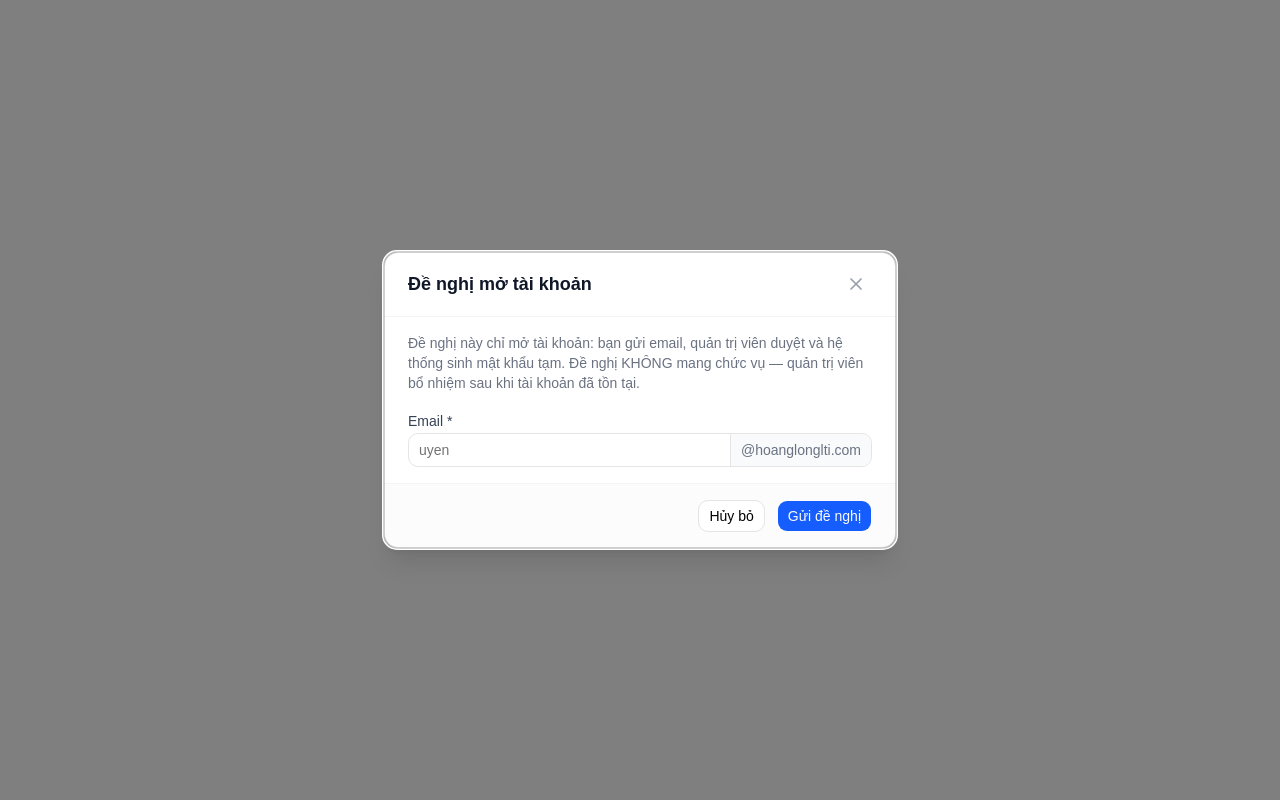
it: AddEmployeeModal › shows the server’s refusal rather than guessing at one
The image size is (1280, 800).
Type "taken" into the field labelled "Email *" at [569, 450], box [409,434,730,466]
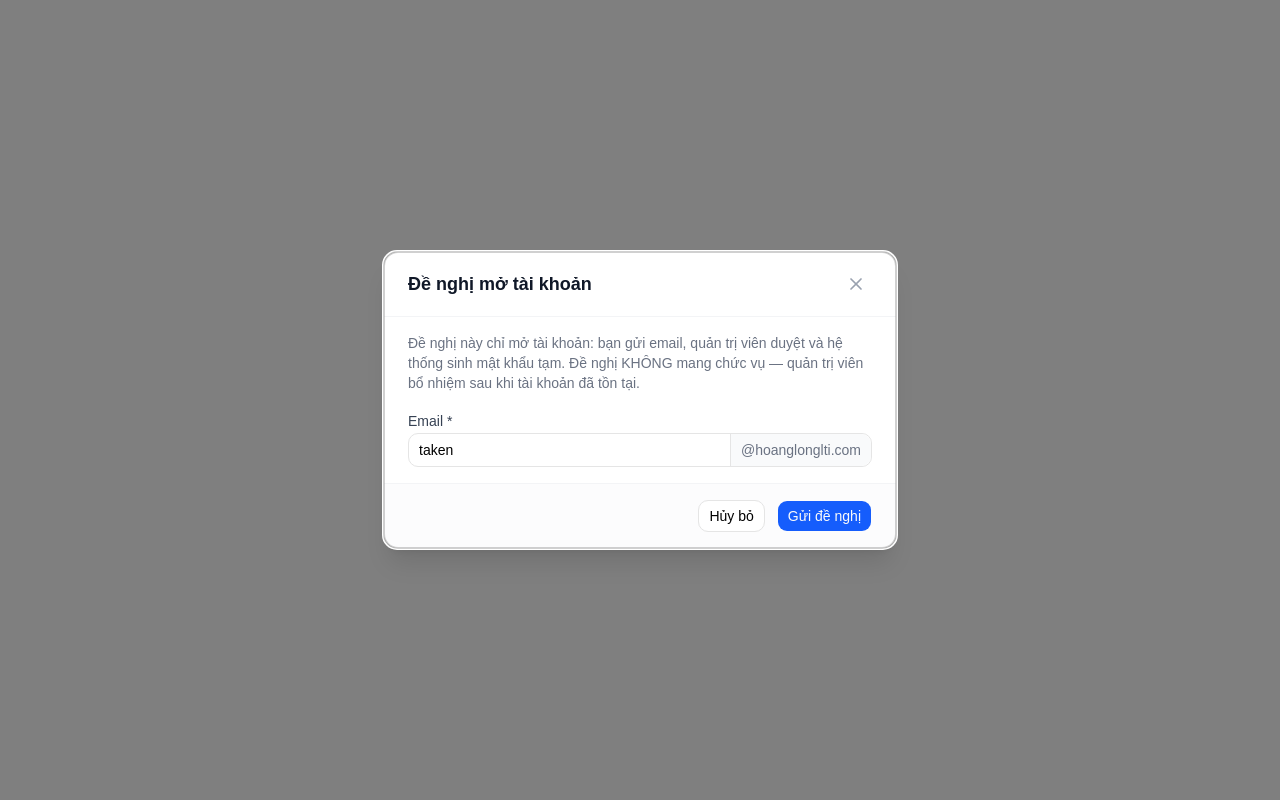
Click the button "Gửi đề nghị" at [824, 516], box [777,500,872,532]
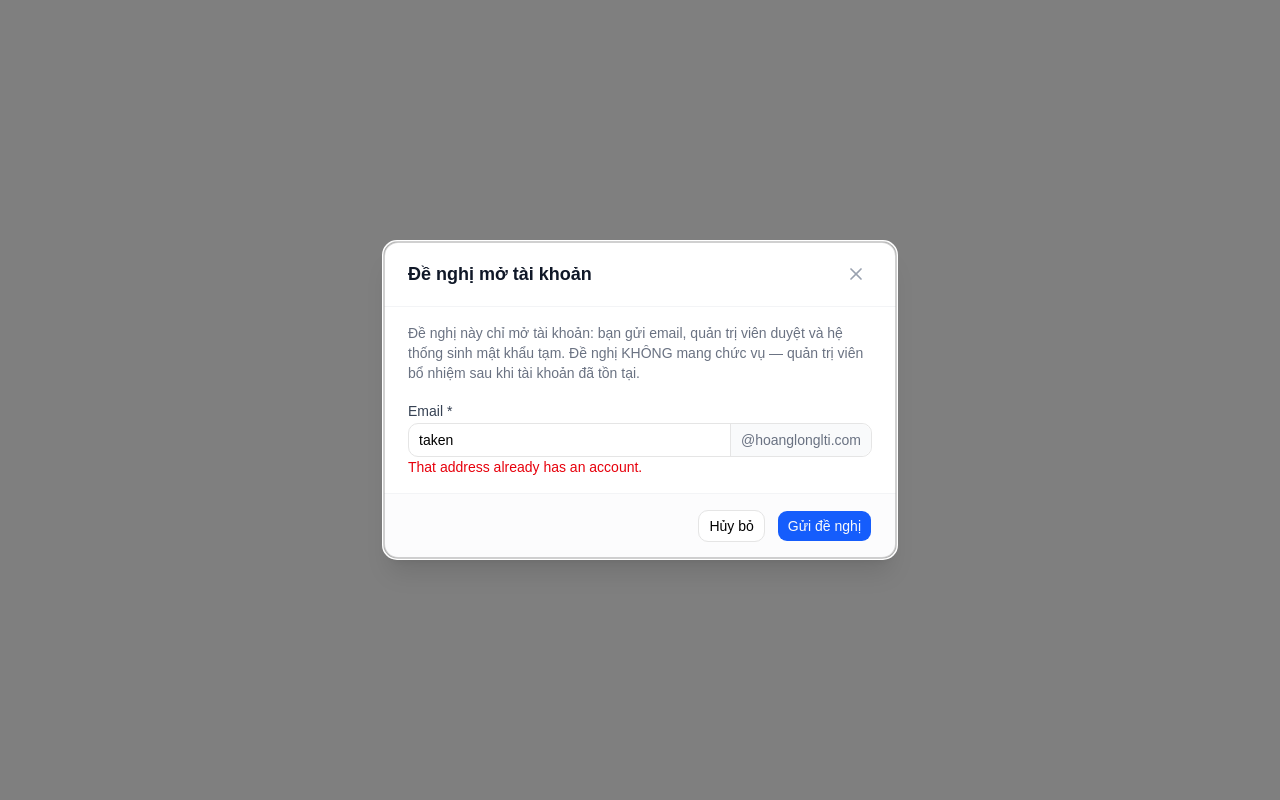
Now the message reads "That address already has an account.", box [408,459,642,475]
